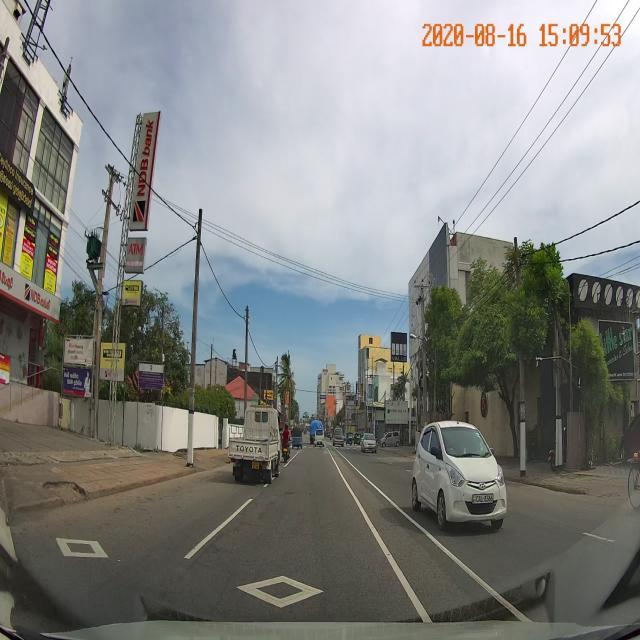diamond: (153, 568, 424, 610)
